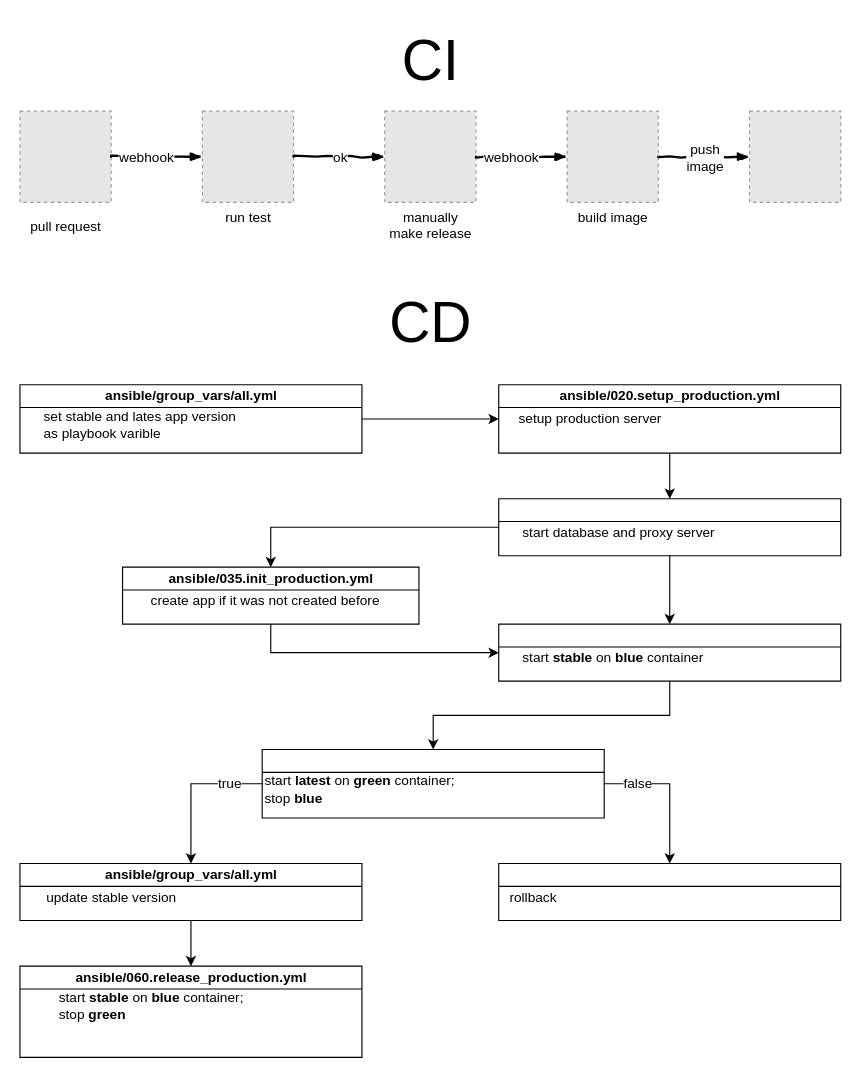
Some shapes in this 861 by 1077 pixel diagram are drawn without their labels. Grey dashed boxes stand in for pictures. Here are the shapes that lost their labels. From the top down, the box of each, then its label:
(498, 498, 841, 556): ansible/030.start_stable_production.yml
(498, 623, 841, 681): ansible/040.start_latest_production.yml
(261, 748, 604, 818): ansible/050.prerelease_production.yml
(498, 862, 841, 921): ansible/070.rollback_production.yml
